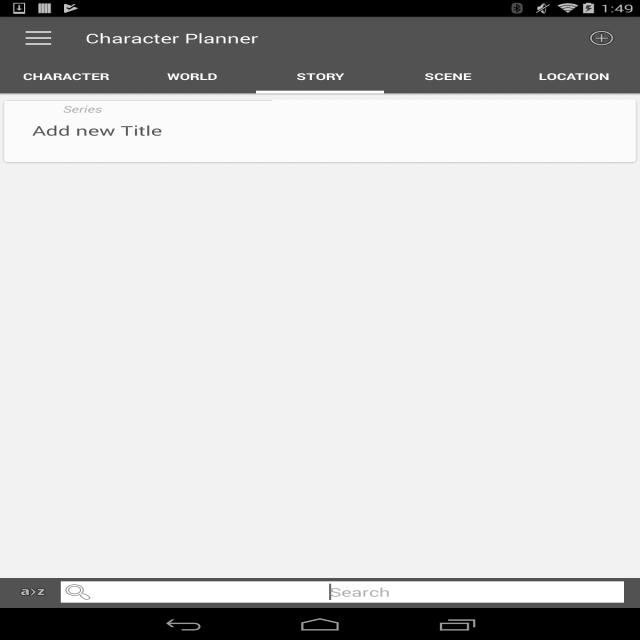EditText: (61, 581, 624, 603)
ImageButton: (9, 17, 68, 59), (16, 581, 50, 603)
TextView: (26, 118, 634, 143), (58, 100, 634, 118), (0, 60, 128, 94), (128, 60, 256, 94), (256, 60, 384, 94), (384, 60, 512, 94), (512, 60, 640, 94), (85, 29, 258, 47), (572, 22, 631, 54)
